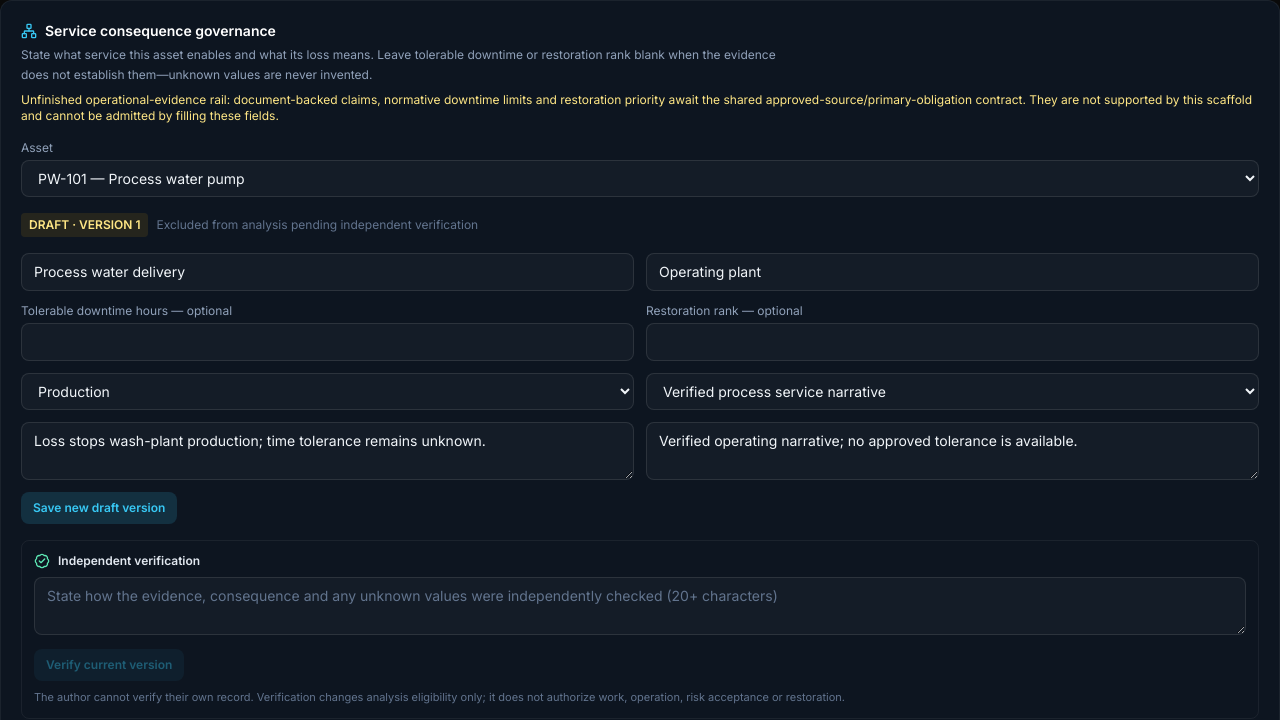
Scenario: ServiceLevelGovernancePanel › does not notify the new workspace when an old successful verification's refresh finishes (old refresh first)
The width and height of the screenshot is (1280, 720).
Later steps or results of the test are not shown.
Check: the text "Excluded from analysis pending independent verification" is shown, box [156,217,478,233]
Check: the field named "Service name" holds "Process water delivery", box [21,253,634,291]
Replace the text in the text box named "Independent review note" with "Independent operations review against exact draft." at (640, 606), box [34,577,1246,635]
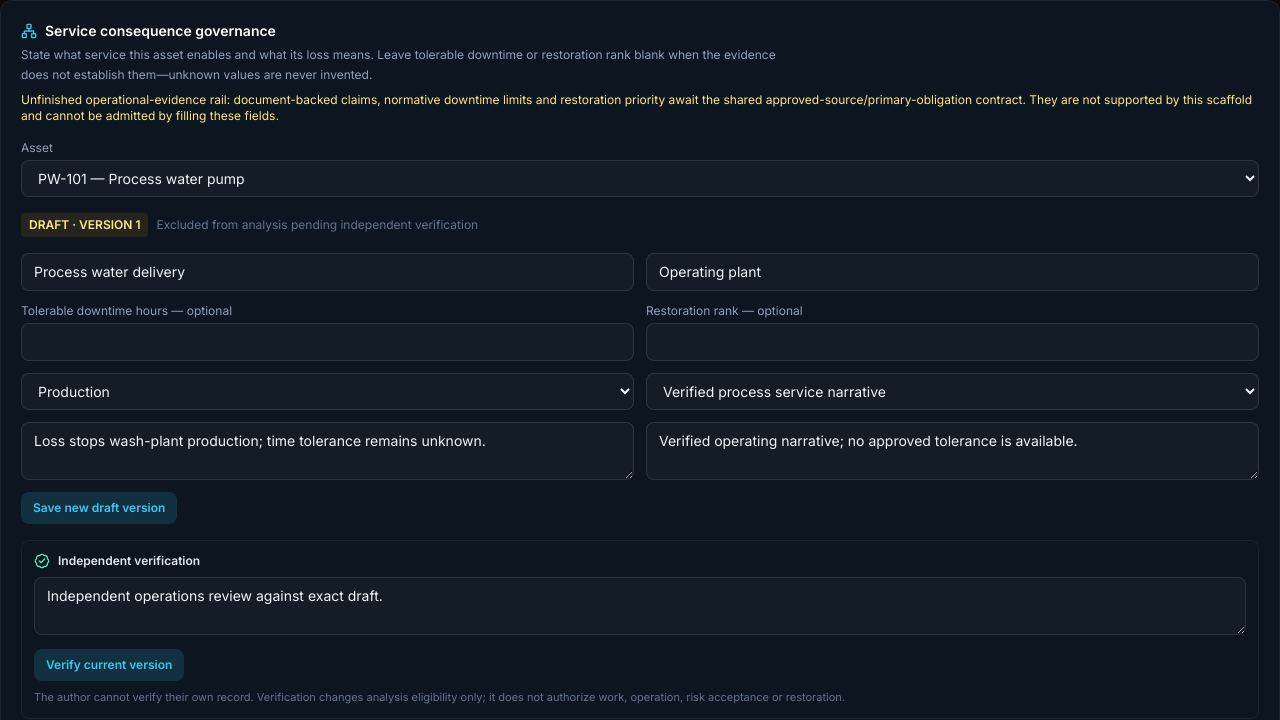
Check: the button "Verify current version" is enabled, box [34,649,184,681]
